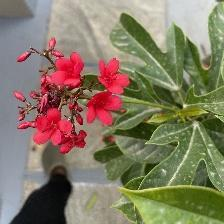jatropha: (30, 109, 74, 147), (53, 50, 86, 89), (87, 93, 122, 127), (98, 59, 130, 95)
